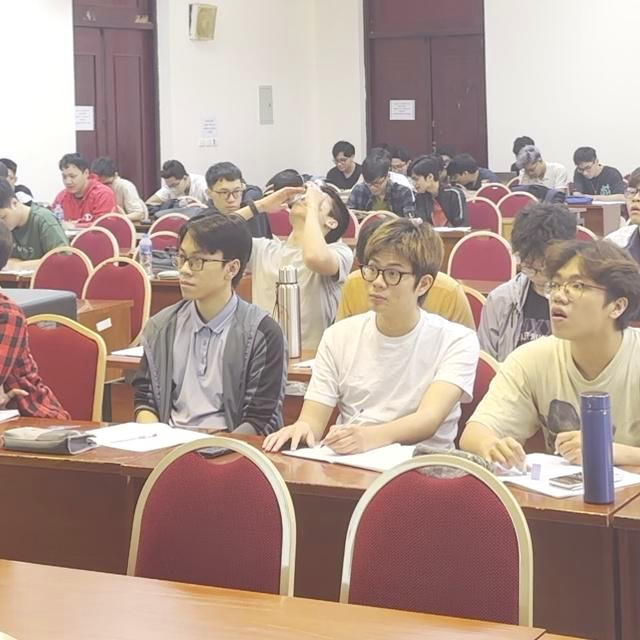Looking away: (209, 180, 241, 215), (59, 163, 86, 198), (362, 172, 389, 198), (162, 176, 187, 196), (576, 161, 598, 181), (333, 152, 352, 174), (409, 173, 427, 196), (450, 168, 470, 188), (523, 164, 541, 179)
Looking forward: (549, 267, 603, 341), (174, 240, 221, 302), (363, 257, 413, 314)
